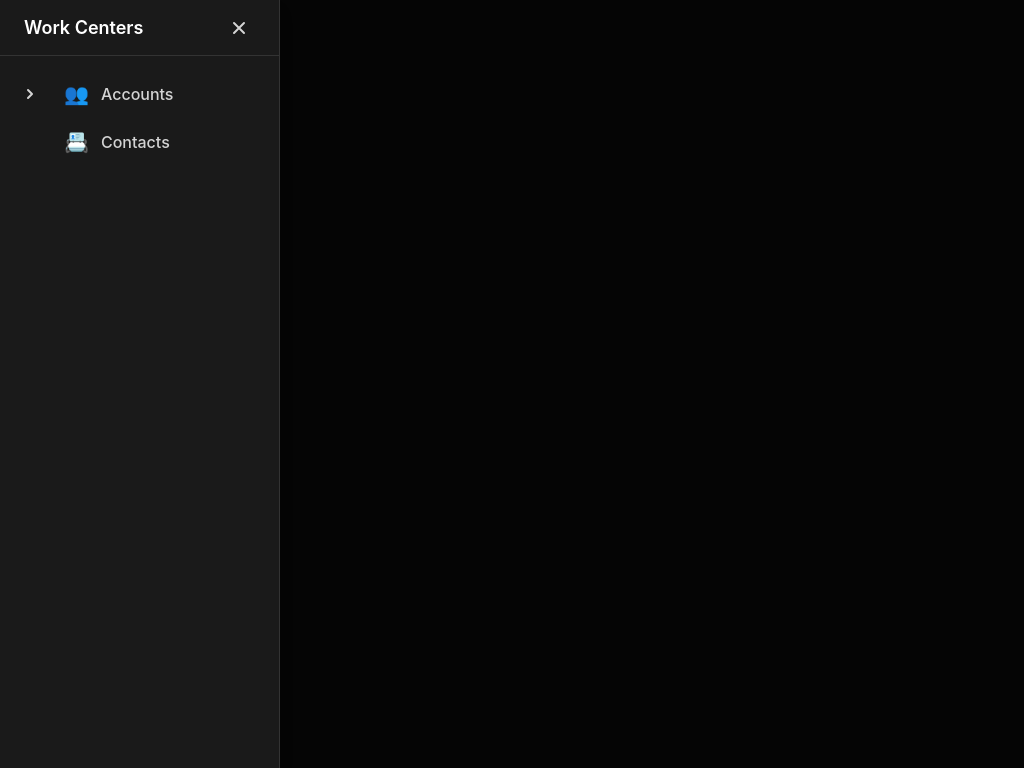
Sidebar › nested workcenters › shows subitems when expand button is clicked
Click the button named "Expand Accounts" at (30, 94), box [16,80,44,108]
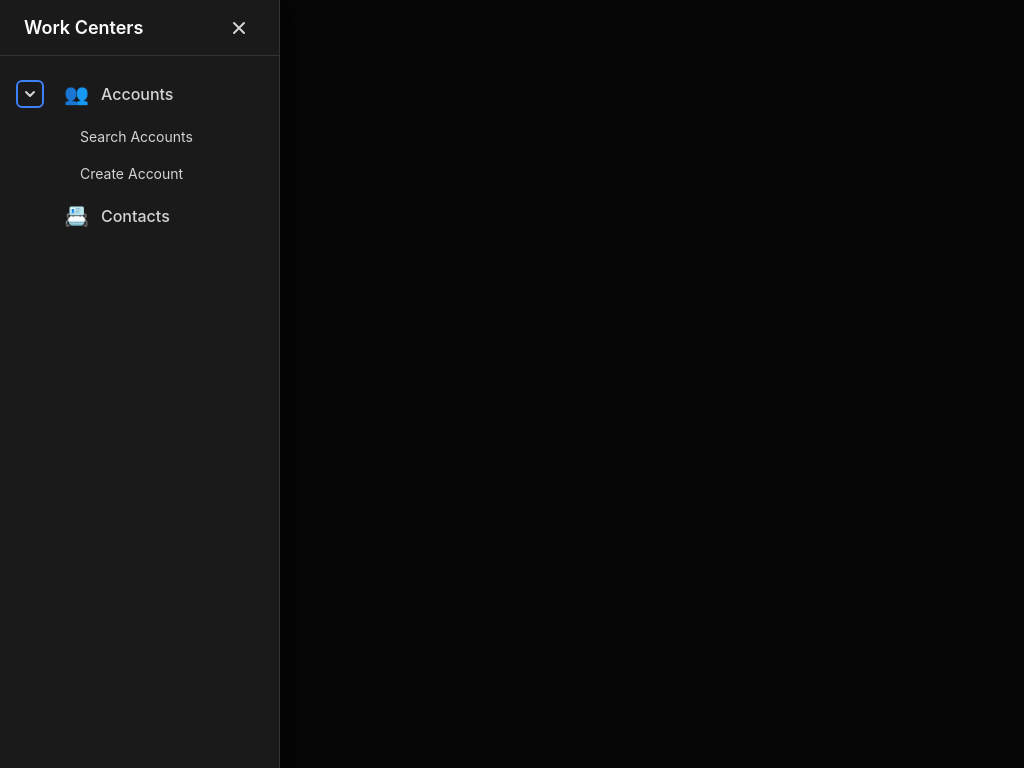
Now the text "Search Accounts" is shown, box [80,128,193,145]
Now the text "Create Account" is shown, box [80,165,183,182]
